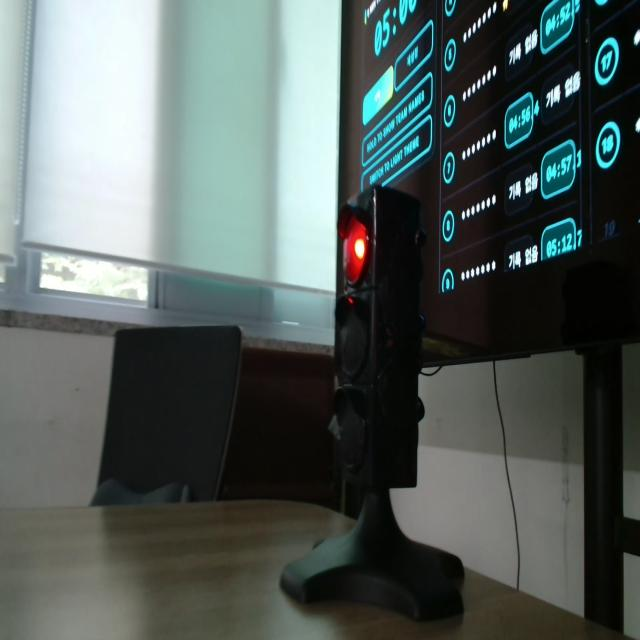red_light: (343, 217, 367, 283)
